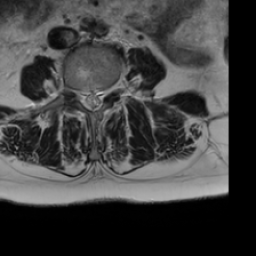CCS_normal: (88, 80, 97, 119)
LFS_normal: (105, 75, 114, 104)
LLS_normal: (97, 80, 105, 115)
RFS_normal: (69, 78, 79, 112)
RLS_normal: (79, 81, 88, 115)
